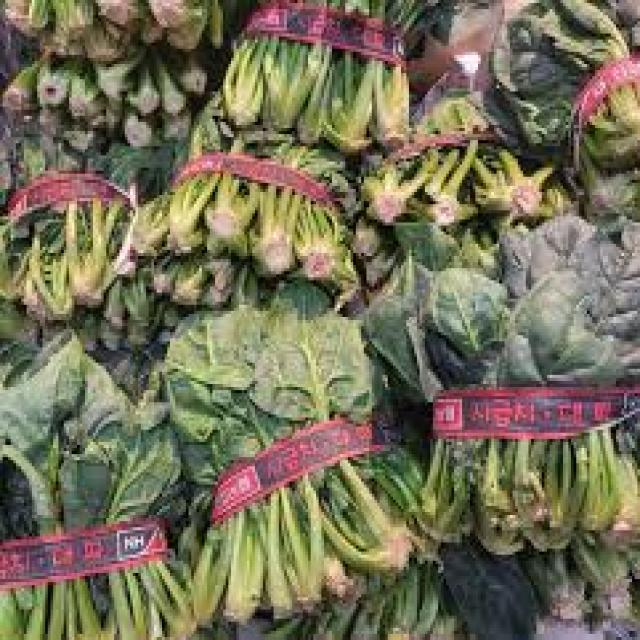Spinach bagged/loose: (165, 308, 414, 626)
